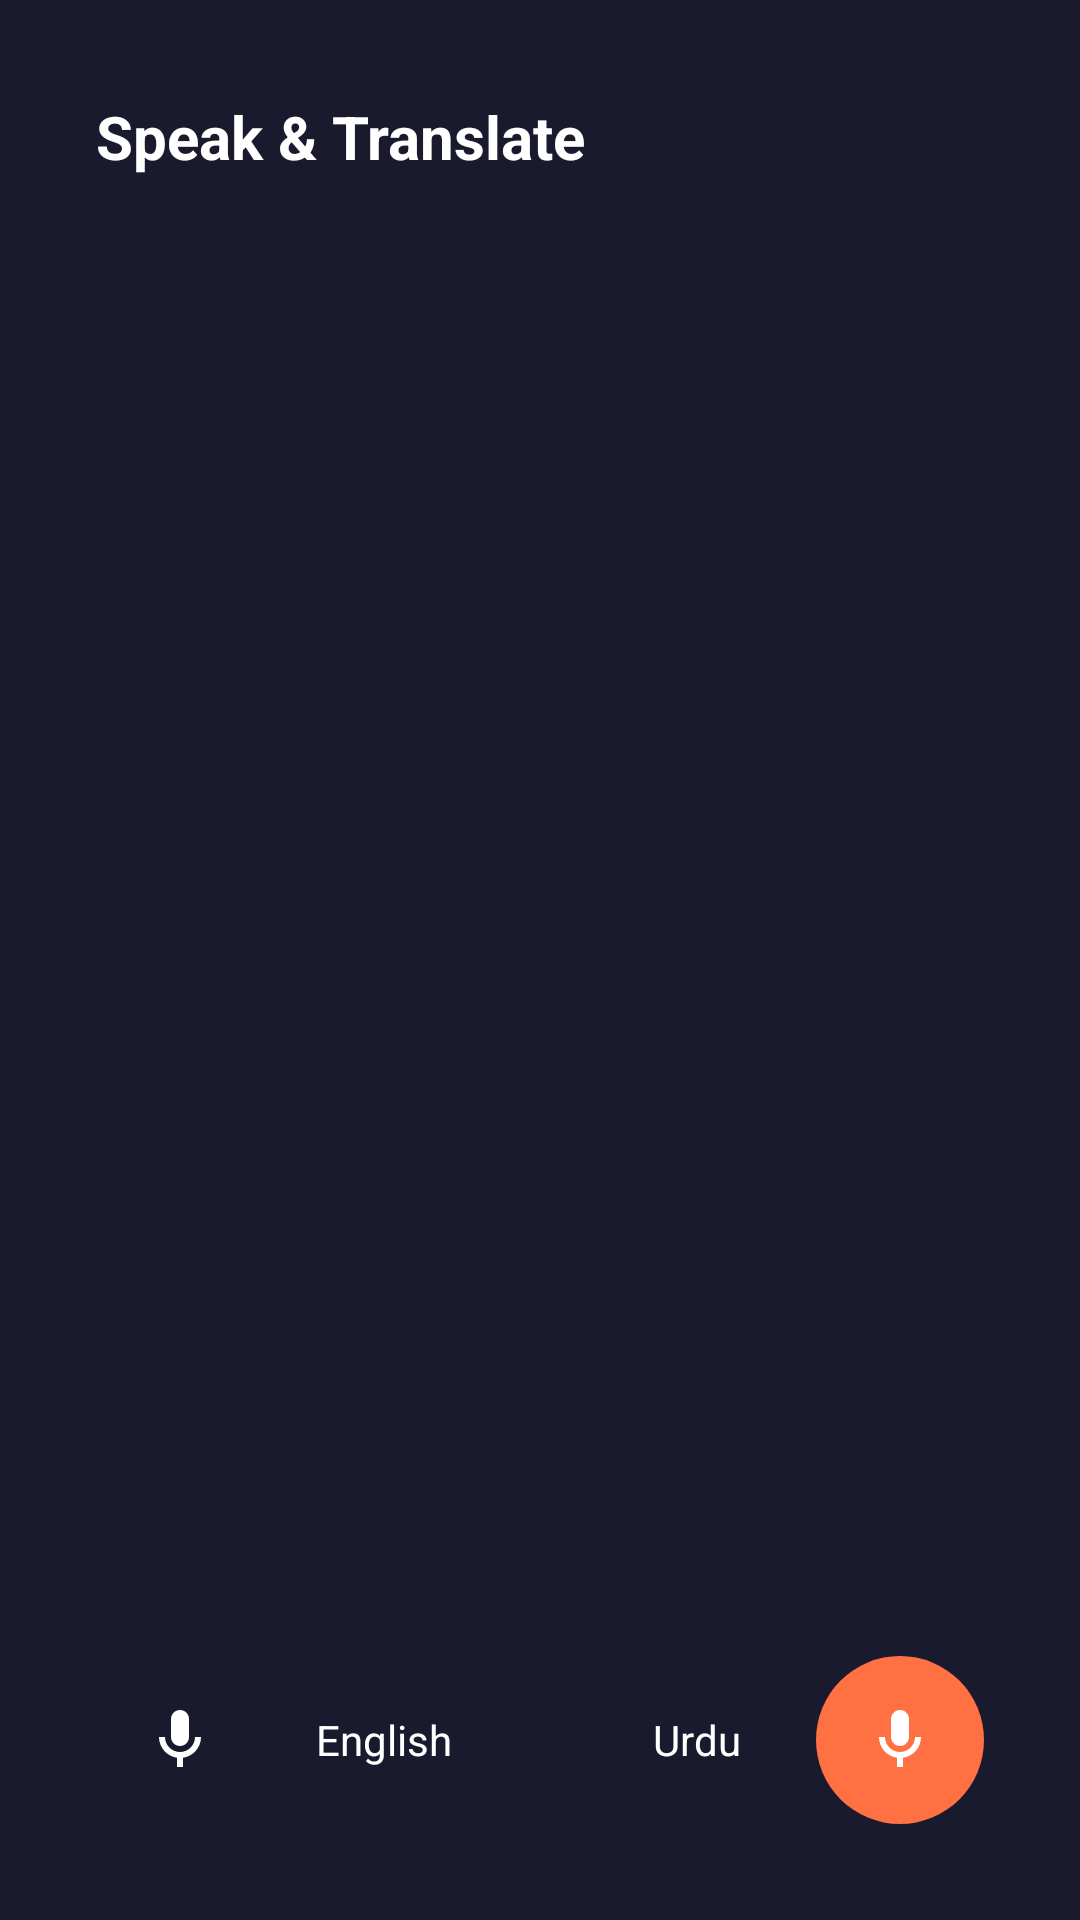

Screen size 1080×1920. Icon name, then its center in pixels as (x=x, y=y):
mic: (x=900, y=1740), (x=180, y=1738)
